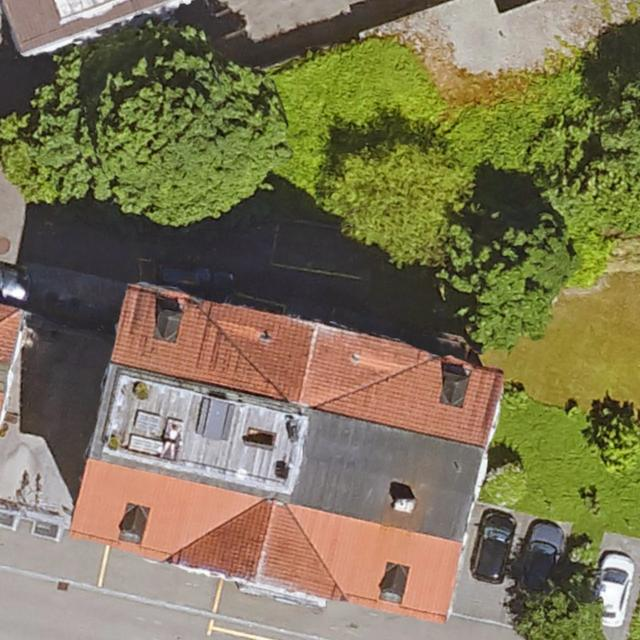tree: (6, 23, 277, 223), (440, 205, 571, 336), (336, 133, 453, 261), (525, 123, 607, 286), (584, 59, 640, 225), (522, 566, 598, 640), (597, 404, 640, 479)
